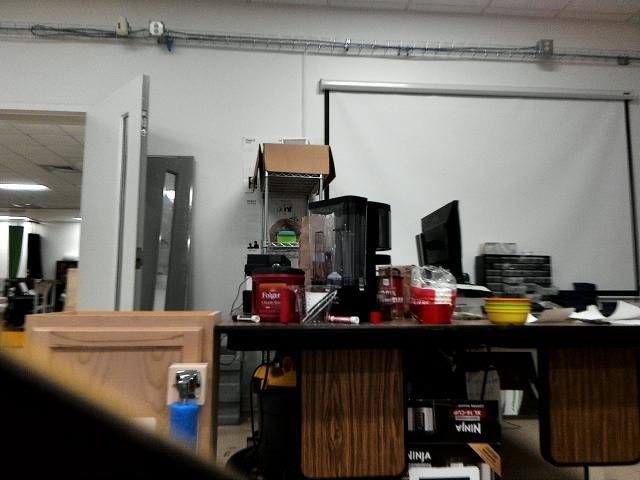noodle_handle: (164, 398, 204, 457)
